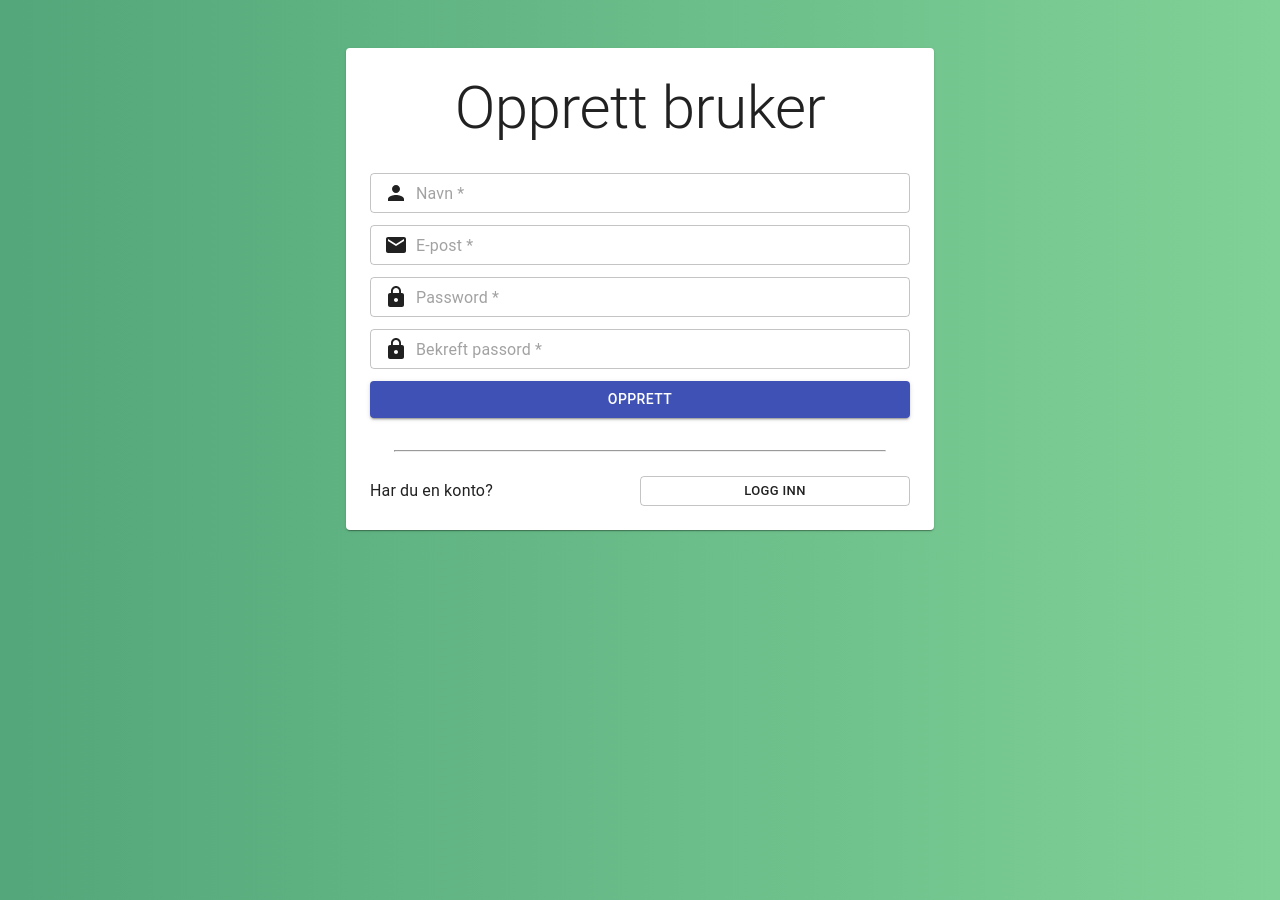
Test: Signup component › should show an error message if email already exists
Type "test" into the field with placeholder "Navn *" at [663, 193], box [416, 173, 910, 213]
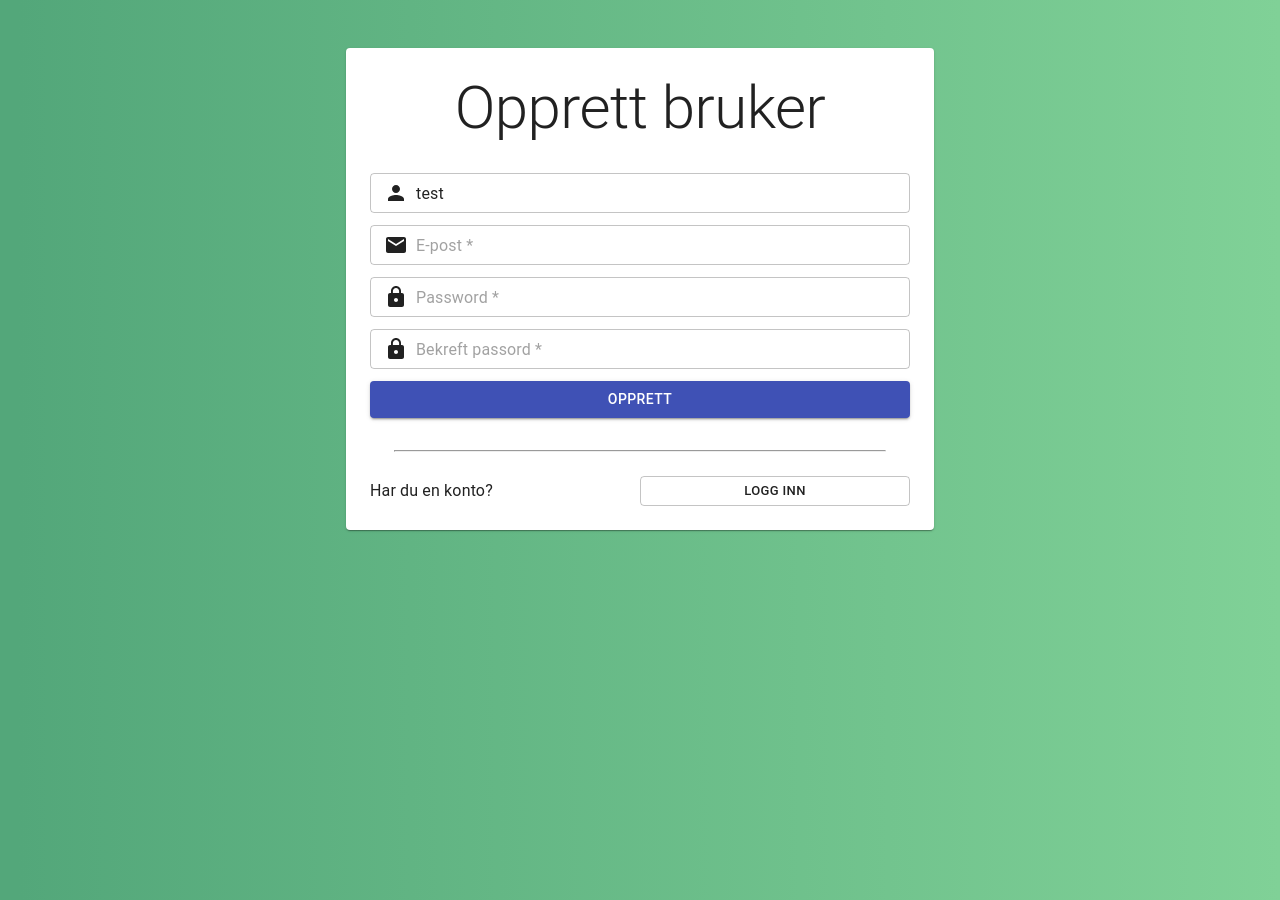
Type "pickle@lim.no" into the field with placeholder "E-post *" at [663, 245], box [416, 225, 910, 265]
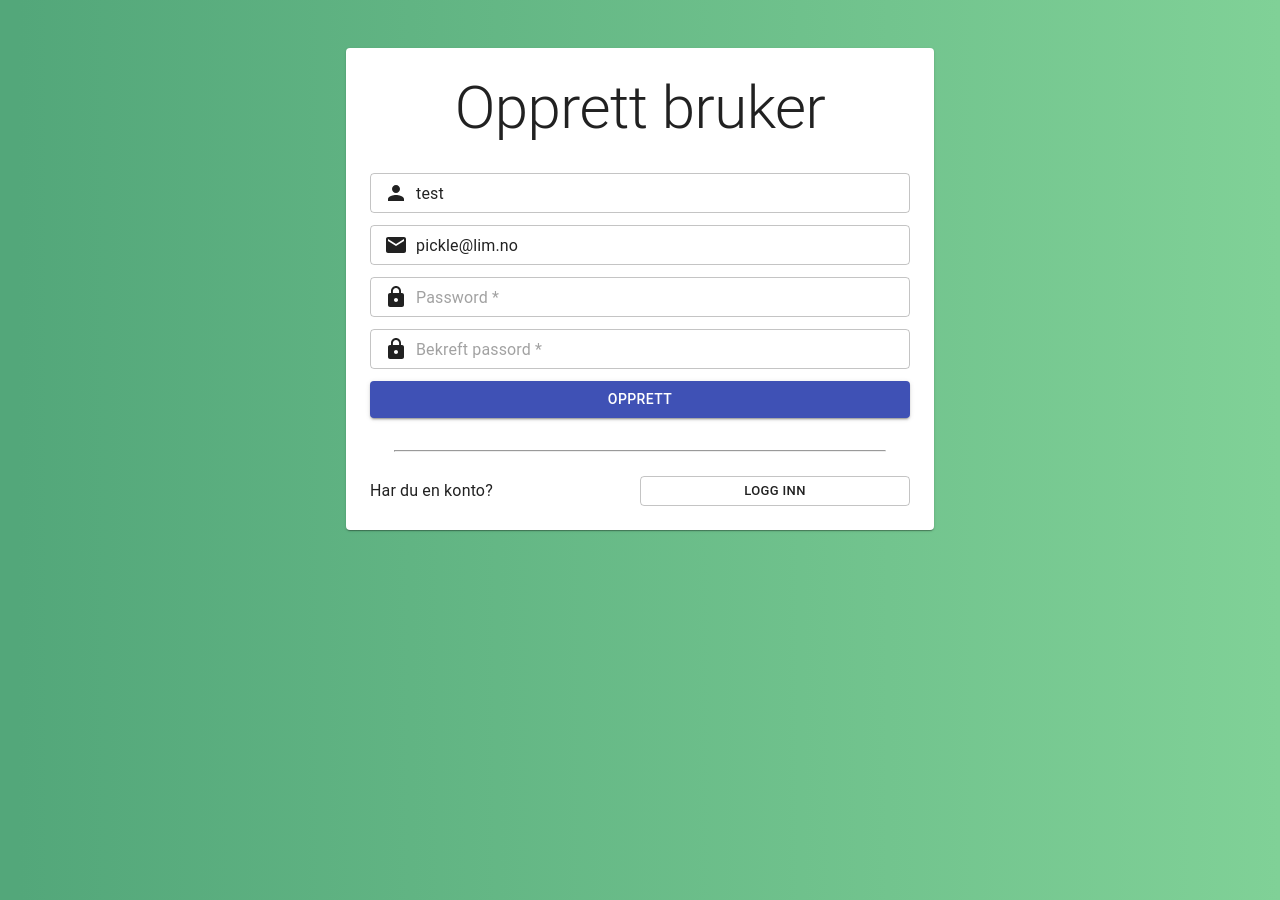
Type "Bachel0r" into the password field with placeholder "Password *" at [663, 297], box [416, 277, 910, 317]
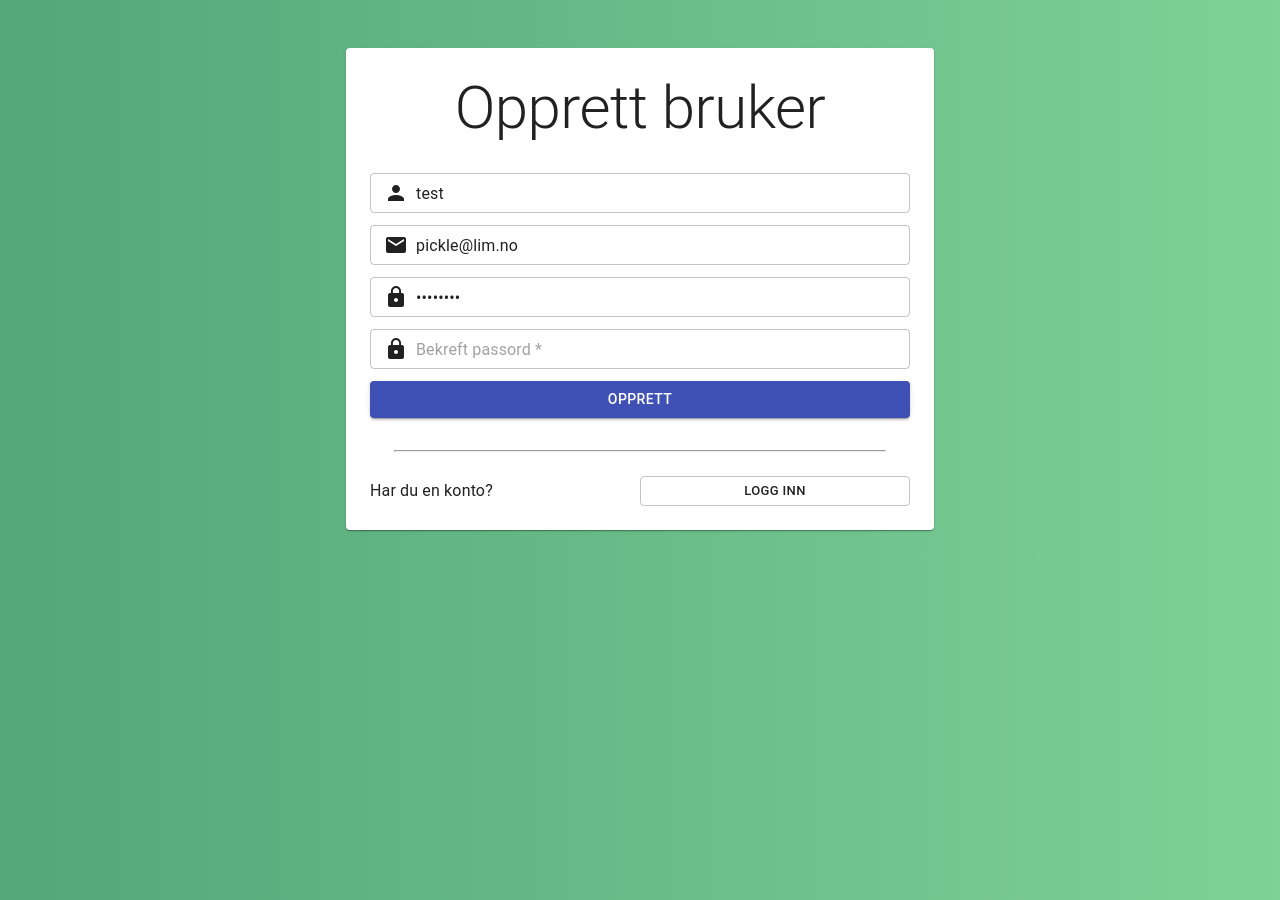
Type "Bachel0r" into the password field with placeholder "Bekreft passord *" at [663, 349], box [416, 329, 910, 369]
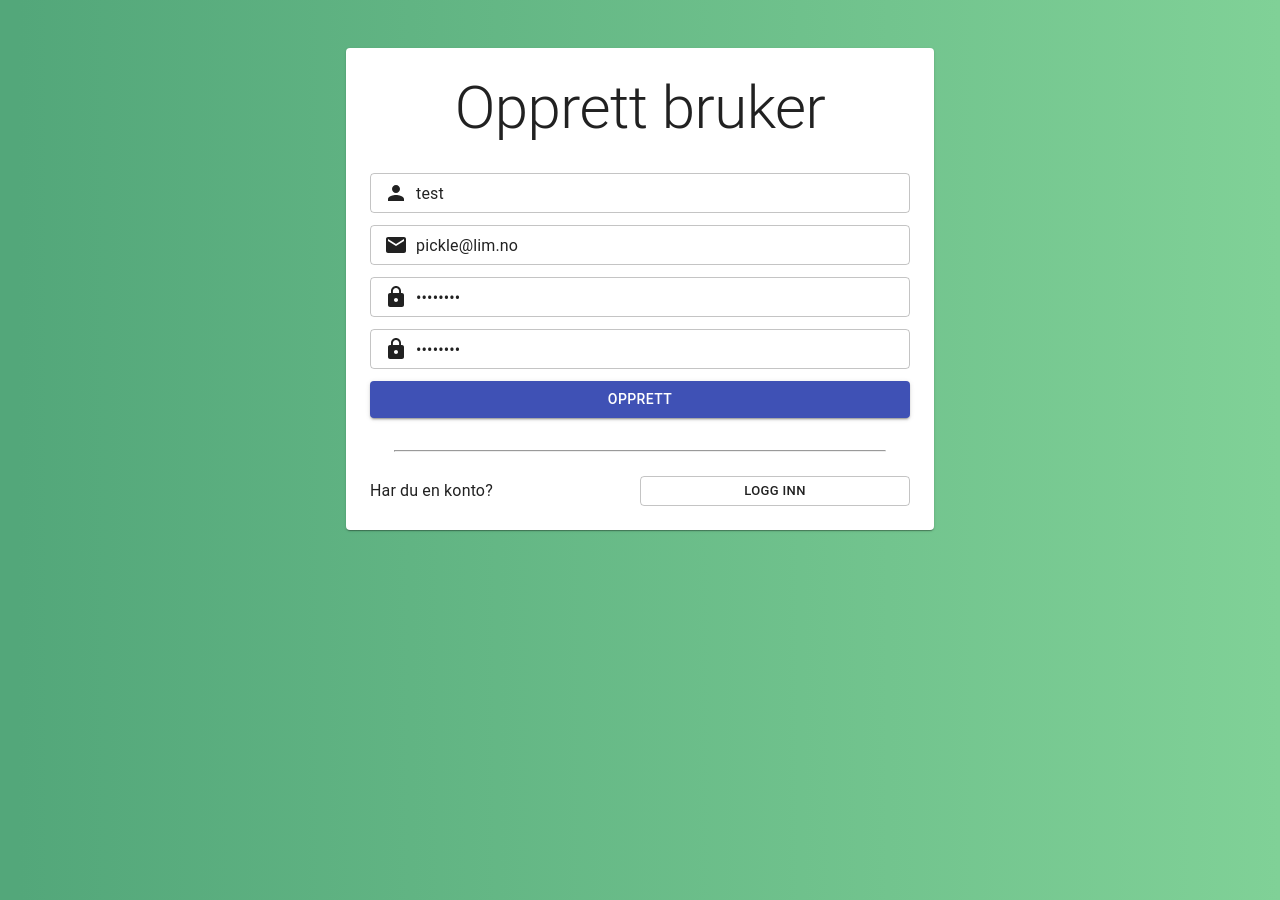
Click the button with test id "signUpButton" at [640, 399], box [370, 381, 910, 418]
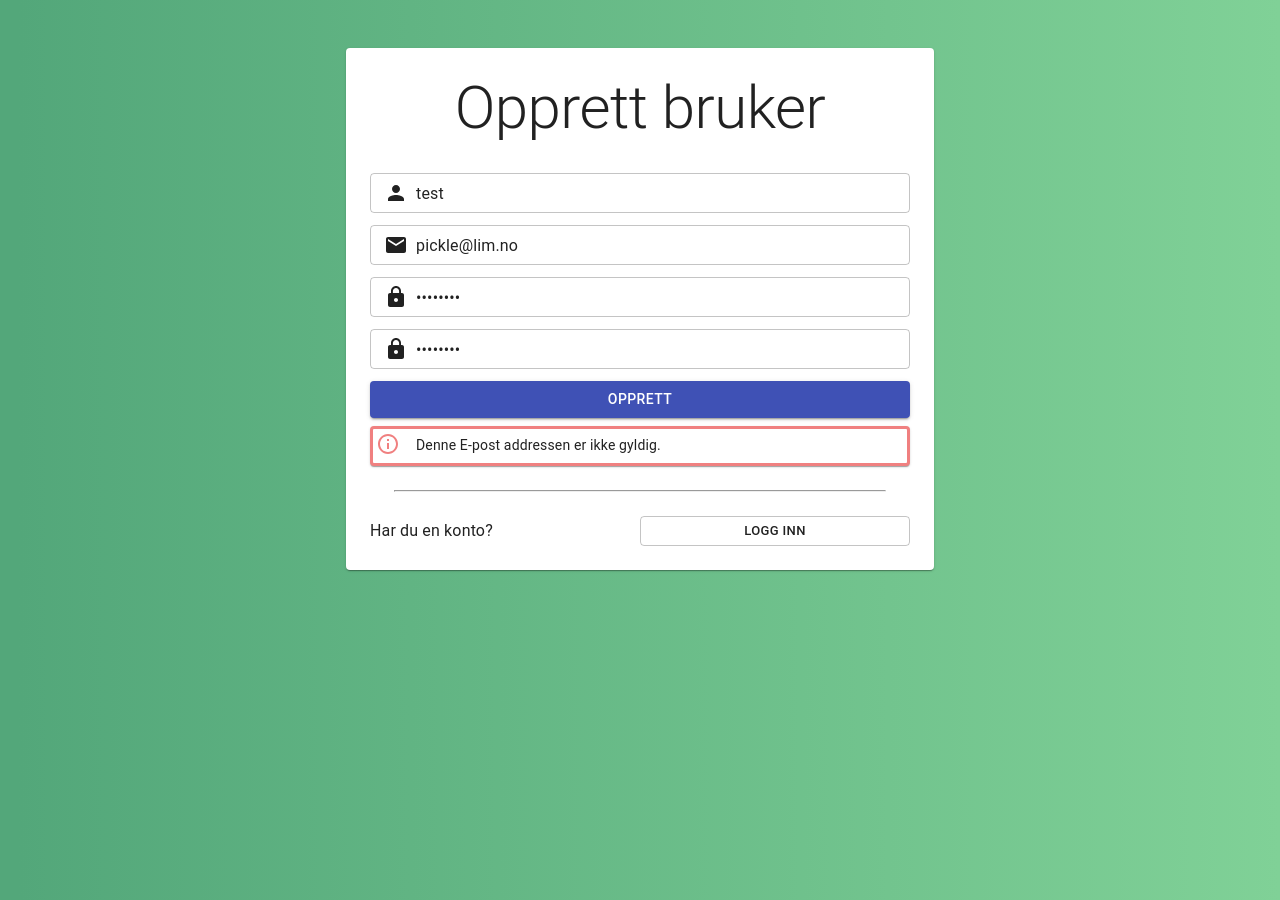
Now the text "Denne E-post addressen er ikke gyldig." is shown, box [416, 438, 661, 454]
